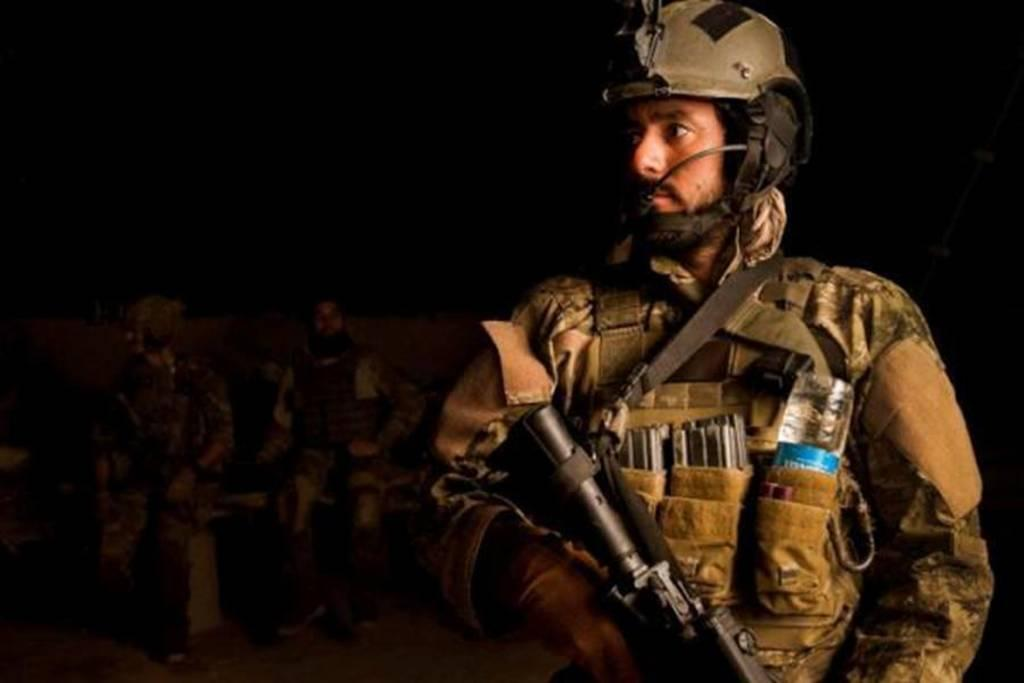non-violence: (433, 6, 994, 683), (273, 303, 429, 622), (95, 293, 232, 632)
weapon: (480, 401, 774, 682)
